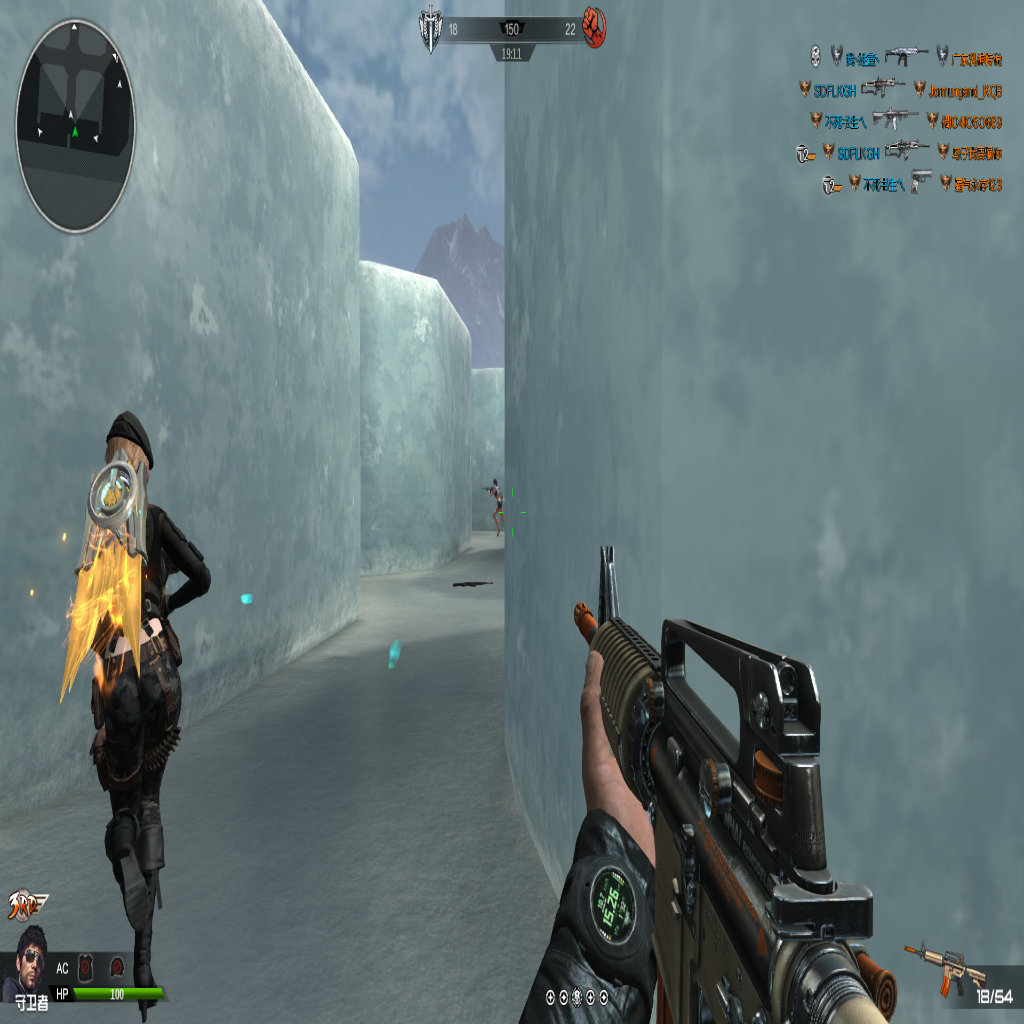tt: (485, 476, 505, 540)
